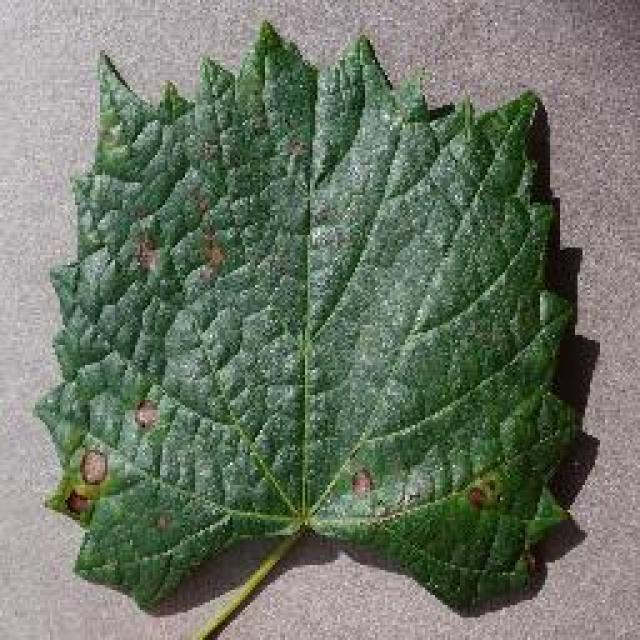Black_rot: (25, 19, 577, 624)
